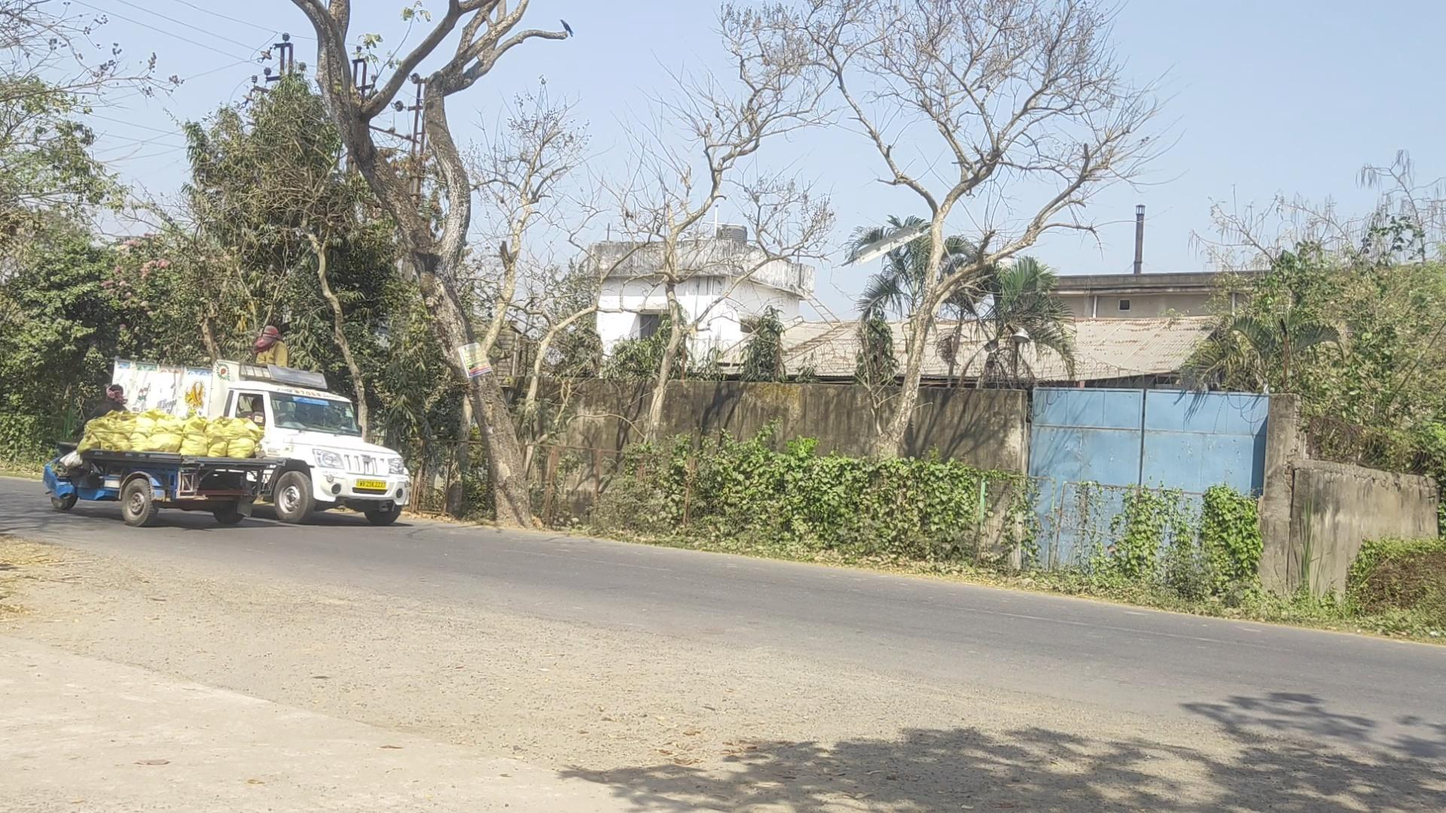van: (111, 325, 410, 526)
